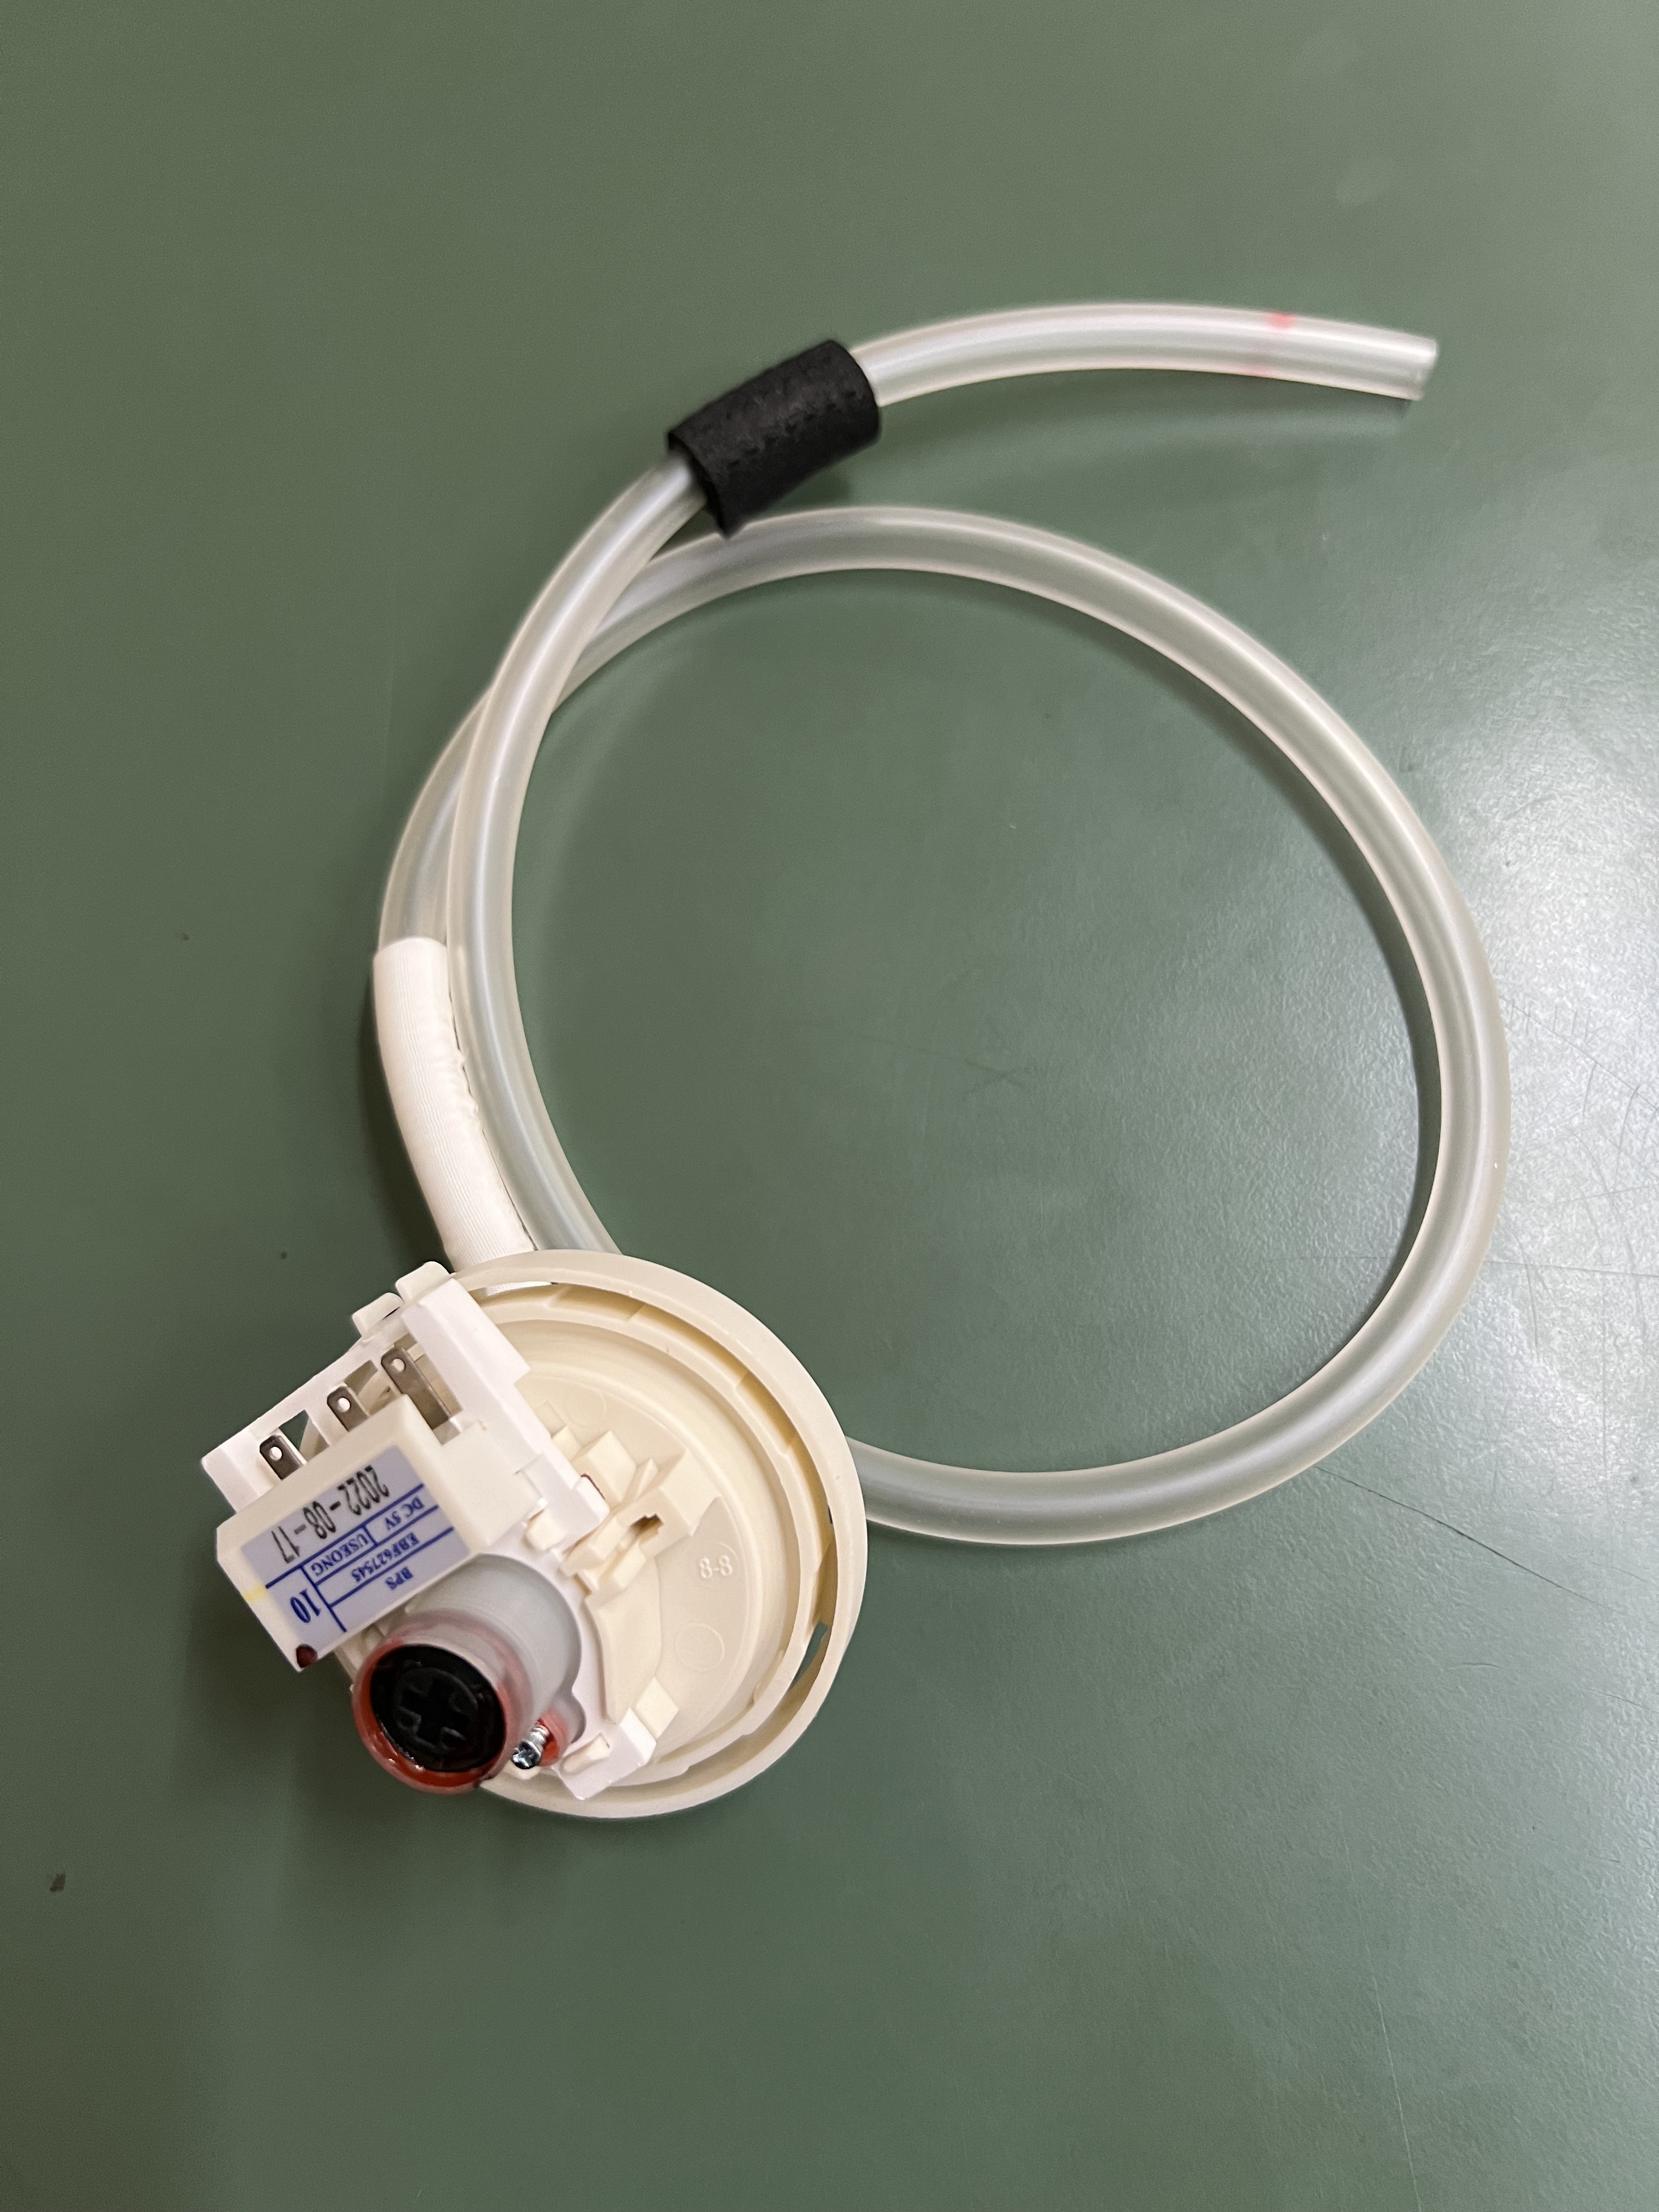pressure_sensor: (169, 1277, 880, 1853)
